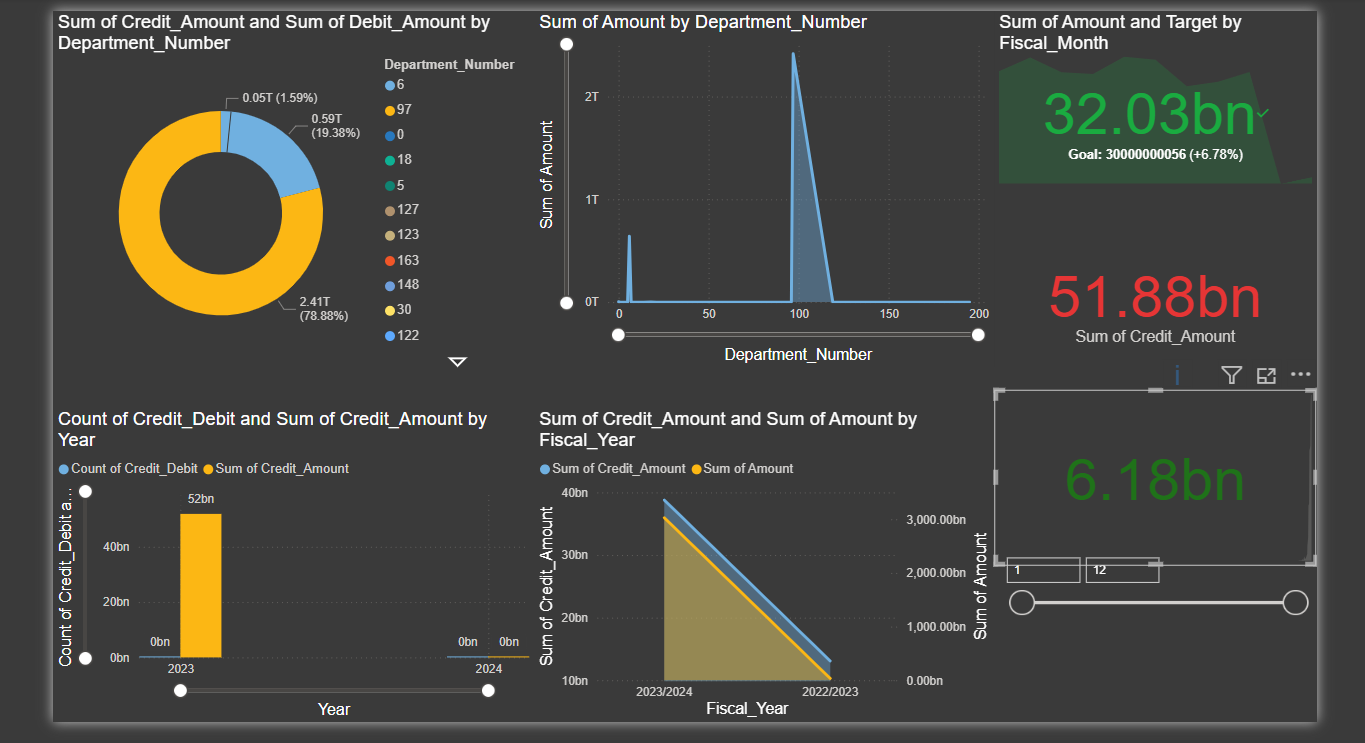

The page's visual inventory and layout, read from the dashboard file:
{"tool":"powerbi","page":{"name":"Page 1","canvas":[1280,720],"ordinal":0},"visuals":[{"type":"card","fields":{"Values":["Sum(MIS_Project_Cleaned_With_Measures.Credit_Amount)"]},"box":[953.2,225.3,326.6,134.2],"z":0},{"type":"slicer","fields":{"Values":["MIS_Project_Cleaned_With_Measures.Fiscal_Month"]},"box":[953.2,543,326.6,151.9],"z":1000},{"type":"areaChart","fields":{"Category":["MIS_Project_Cleaned_With_Measures.Department_Number"],"Y":["Sum(MIS_Project_Cleaned_With_Measures.Amount)"]},"box":[487.2,0,465.6,360],"z":2000},{"type":"kpi","fields":{"Indicator":["Sum(MIS_Project_Cleaned_With_Measures.Amount)"],"TrendLine":["MIS_Project_Cleaned_With_Measures.Fiscal_Month"],"Goal":["MIS_Project_Cleaned_With_Measures.Target"]},"box":[953,0,327,180],"z":3000},{"type":"lineClusteredColumnComboChart","fields":{"Y":["CountNonNull(MIS_Project_Cleaned_With_Measures.Credit_Debit)","Sum(MIS_Project_Cleaned_With_Measures.Credit_Amount)"],"Category":["MIS_Project_Cleaned_With_Measures.Accounting_Effective_Date.Variation.Date Hierarchy.Year","MIS_Project_Cleaned_With_Measures.Accounting_Effective_Date.Variation.Date Hierarchy.Quarter","MIS_Project_Cleaned_With_Measures.Accounting_Effective_Date.Variation.Date Hierarchy.Month","MIS_Project_Cleaned_With_Measures.Accounting_Effective_Date.Variation.Date Hierarchy.Day"]},"box":[0,403,487,317],"z":4000},{"type":"kpi","fields":{"Indicator":["Sum(MIS_Project_Cleaned_With_Measures.Net_Cash_Flow)"],"TrendLine":["MIS_Project_Cleaned_With_Measures.Net_Cash_Flow"]},"box":[953.2,383.5,326.6,178.5],"z":5000},{"type":"areaChart","fields":{"Category":["MIS_Project_Cleaned_With_Measures.Fiscal_Year"],"Y2":["Sum(MIS_Project_Cleaned_With_Measures.Amount)"],"Y":["Sum(MIS_Project_Cleaned_With_Measures.Credit_Amount)"]},"box":[487.3,402.5,465.8,317.7],"z":6000},{"type":"donutChart","fields":{"Y":["Sum(MIS_Project_Cleaned_With_Measures.Credit_Amount)","Sum(MIS_Project_Cleaned_With_Measures.Debit_Amount)"],"Category":["MIS_Project_Cleaned_With_Measures.Department_Number"]},"box":[0,0,487.3,368.4],"z":7000}]}

Visuals, with their boxes in screenshot pixels (x1, y1, x2, y2):
card - Sum(MIS_Project_Cleaned_With_Measures.Credit_Amount): [996, 235, 1317, 367]
slicer - MIS_Project_Cleaned_With_Measures.Fiscal_Month: [996, 547, 1317, 696]
areaChart - MIS_Project_Cleaned_With_Measures.Department_Number x Sum(MIS_Project_Cleaned_With_Measures.Amount): [539, 14, 996, 368]
kpi - Sum(MIS_Project_Cleaned_With_Measures.Amount) x MIS_Project_Cleaned_With_Measures.Fiscal_Month: [996, 14, 1317, 191]
lineClusteredColumnComboChart - CountNonNull(MIS_Project_Cleaned_With_Measures.Credit_Debit) x Sum(MIS_Project_Cleaned_With_Measures.Credit_Amount): [60, 410, 538, 721]
kpi - Sum(MIS_Project_Cleaned_With_Measures.Net_Cash_Flow) x MIS_Project_Cleaned_With_Measures.Net_Cash_Flow: [996, 391, 1317, 566]
areaChart - MIS_Project_Cleaned_With_Measures.Fiscal_Year x Sum(MIS_Project_Cleaned_With_Measures.Amount): [539, 409, 996, 721]
donutChart - Sum(MIS_Project_Cleaned_With_Measures.Credit_Amount) x Sum(MIS_Project_Cleaned_With_Measures.Debit_Amount): [60, 14, 539, 376]
